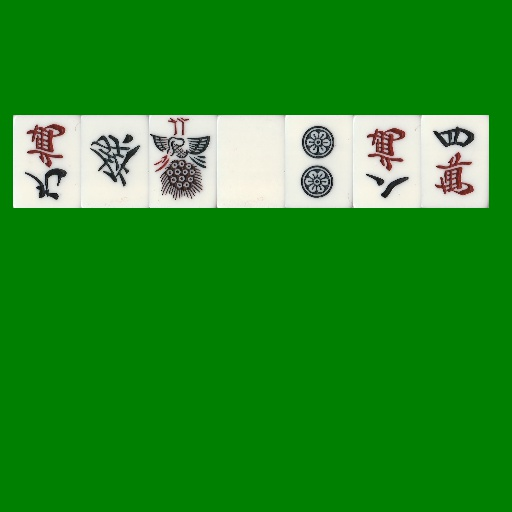1s: (149, 115, 217, 208)
2p: (285, 115, 353, 208)
4m: (421, 115, 489, 208)
8m: (353, 115, 421, 208)
9m: (13, 115, 81, 208)
hatsu: (81, 115, 149, 208)
white: (217, 115, 285, 208)
